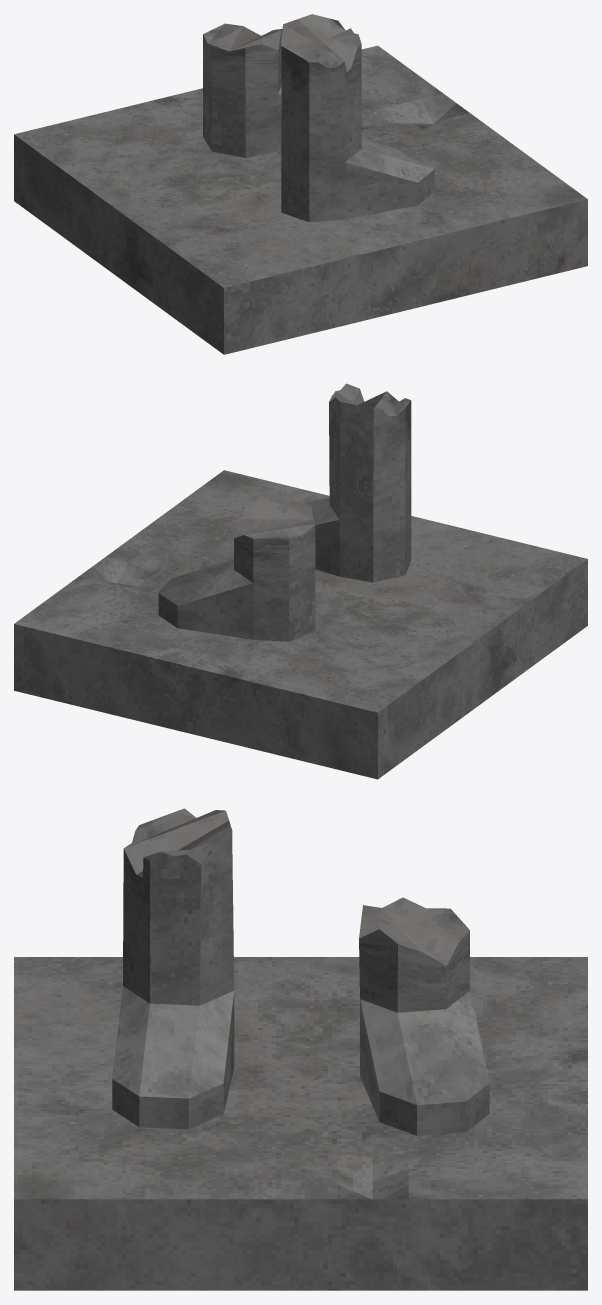
The model's file is broken_statue.gltf.
3 views of the same model, one above another, from view 1: azimuth 30°, elevation 25°; view 2: azimuth 150°, elevation 25°; view 3: azimuth 270°, elevation 25° (orthographic). The views are drawn at different scales.
Parts seen in each view (by area): view 1: Stand-col, RFoot-col, LFoot-col; view 2: Stand-col, RFoot-col, LFoot-col; view 3: Stand-col, RFoot-col, LFoot-col.
Boxes of the visible parts, x1,y1,x2,y2 form: Stand-col: (14,45,587,354); RFoot-col: (281,14,434,222); LFoot-col: (203,23,282,157); Stand-col: (14,470,587,779); RFoot-col: (303,383,411,582); LFoot-col: (158,497,315,641); Stand-col: (14,957,587,1290); RFoot-col: (112,808,234,1129); LFoot-col: (359,897,489,1135).
Bounding box in the file's own units: 2 × 1.27 × 2.
1 material, 1 textured.
